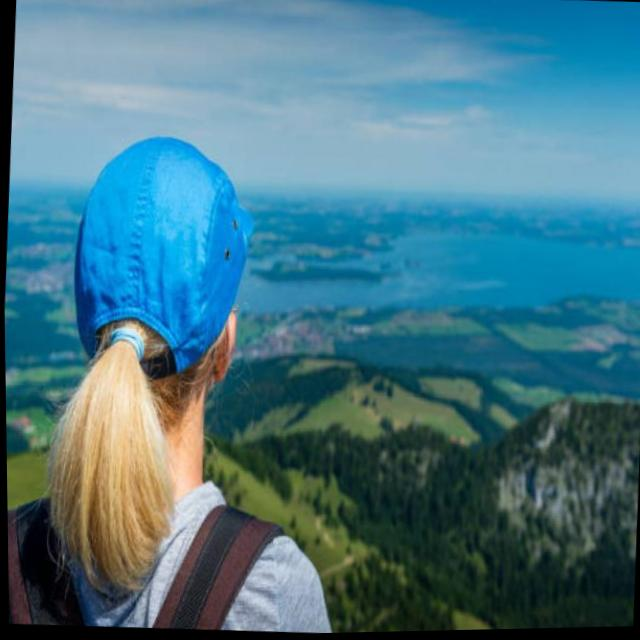no helmet: (42, 111, 260, 614)
